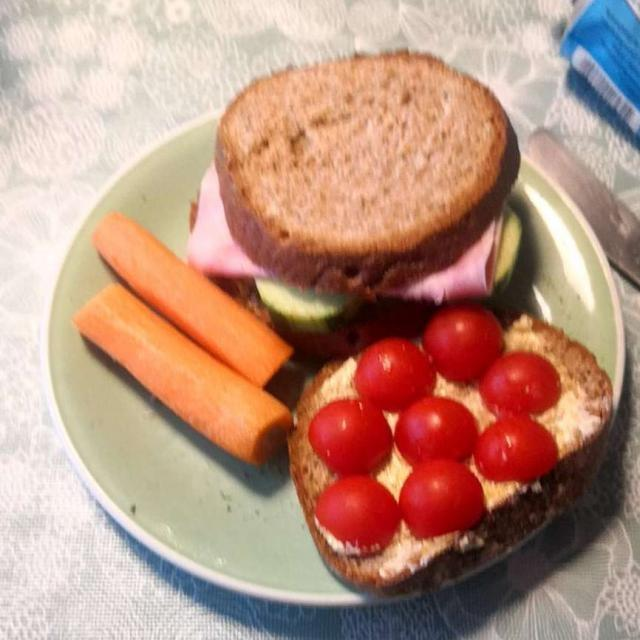bread: (204, 54, 626, 578)
carrot: (80, 218, 287, 458)
ham: (199, 173, 506, 315)
tomato: (313, 308, 551, 545)
